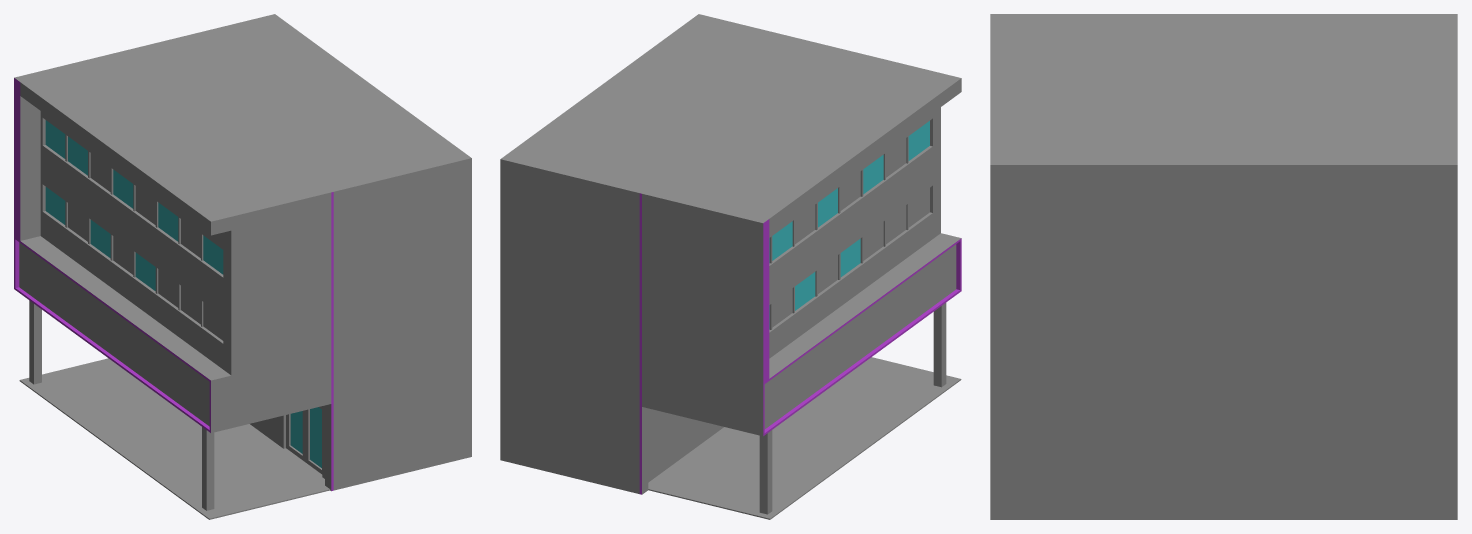
Rendered from buildings_S_01_VAR1 1.fbx.
3 renders of one model, left to right at view 1: azimuth 30°, elevation 25°; view 2: azimuth 150°, elevation 25°; view 3: azimuth 270°, elevation 25°, orthographic. The views are drawn at different scales.
Visible parts, largest first — view 1: buildings_S_01_VAR1; view 2: buildings_S_01_VAR1; view 3: buildings_S_01_VAR1.
Boxes of the visible parts, box(x1,y1,x2,y2) form: buildings_S_01_VAR1: box(14, 14, 471, 519); buildings_S_01_VAR1: box(500, 14, 961, 519); buildings_S_01_VAR1: box(990, 14, 1457, 519).
Bounding box in the file's own units: 9.53 × 10.41 × 12.43.
